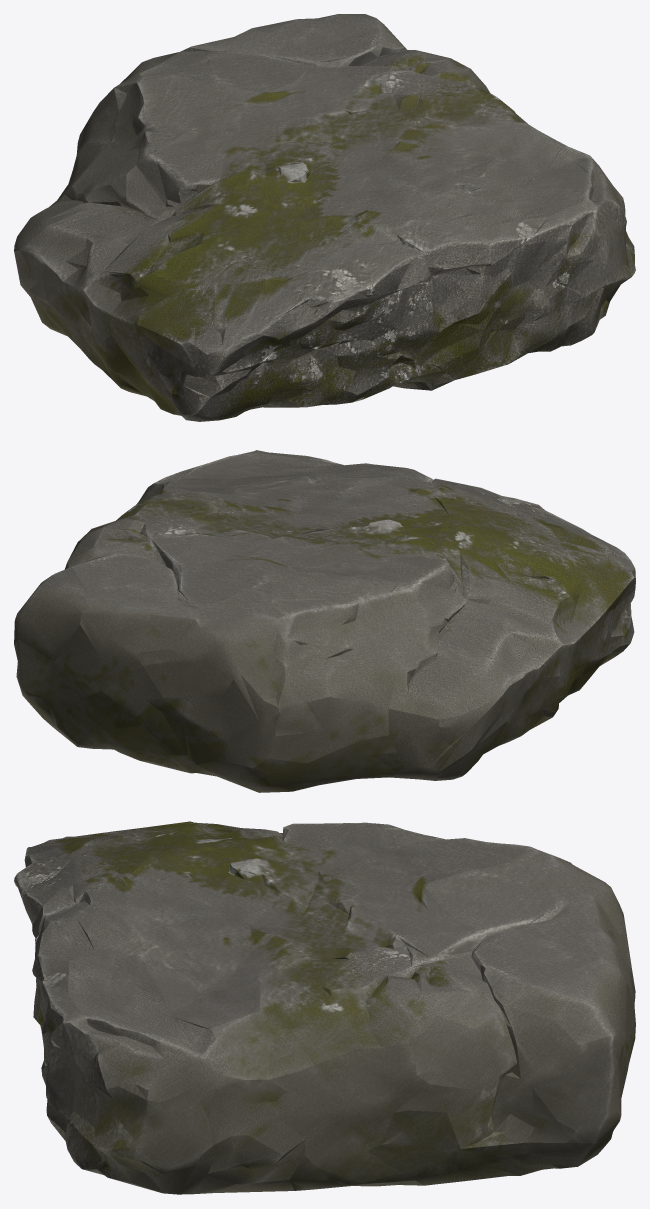
The model's file is mossy-boulder-1.glb.
The picture shows the model from 3 angles, top to bottom: view 1: azimuth 30°, elevation 25°; view 2: azimuth 150°, elevation 25°; view 3: azimuth 270°, elevation 25°; orthographic projection. The views are drawn at different scales.
Visible parts, largest first — view 1: output_unwrapped; view 2: output_unwrapped; view 3: output_unwrapped.
Boxes of the visible parts, <box> form: output_unwrapped: <box>14,14,635,421</box>; output_unwrapped: <box>14,450,635,792</box>; output_unwrapped: <box>14,821,635,1194</box>.
Bounding box in the file's own units: 1 × 0.381 × 0.9793.
Materials: 1 (1 with a texture image).
